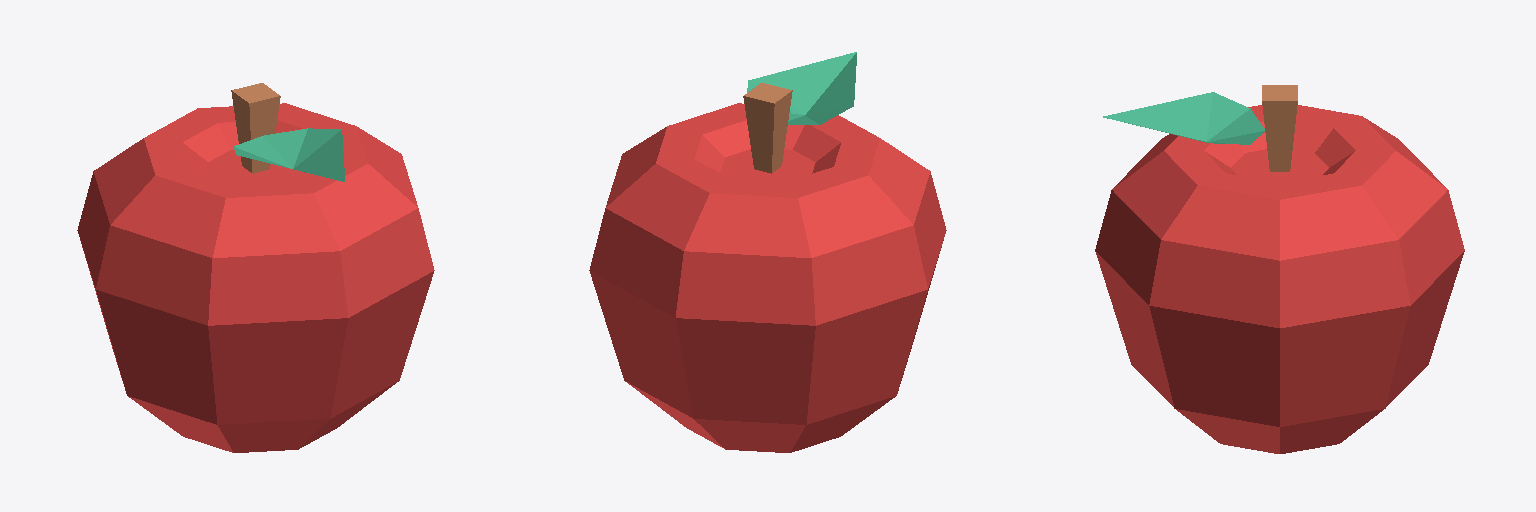
The model's file is apple.obj.
3 views of the same model, side by side, from view 1: azimuth 30°, elevation 25°; view 2: azimuth 150°, elevation 25°; view 3: azimuth 270°, elevation 25° (orthographic).
Parts seen in each view (by area): view 1: apple; view 2: apple; view 3: apple.
Boxes of the visible parts, <box> form: apple: <box>77,83,434,452</box>; apple: <box>589,52,946,452</box>; apple: <box>1095,85,1464,453</box>.
Bounding box in the file's own units: 0.1963 × 0.1908 × 0.1963.